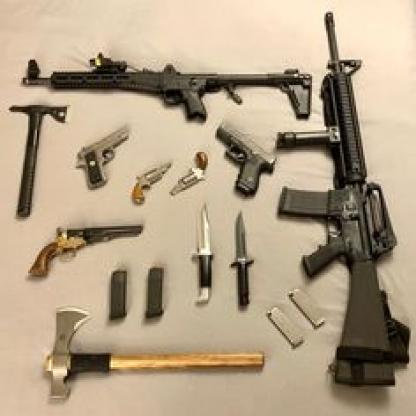Gun: (275, 8, 412, 390), (17, 49, 315, 125)
Knife: (191, 200, 218, 308), (229, 208, 257, 308)
Pistol: (28, 222, 145, 284), (216, 119, 276, 198), (75, 124, 132, 188), (169, 149, 210, 198), (131, 160, 173, 206)
